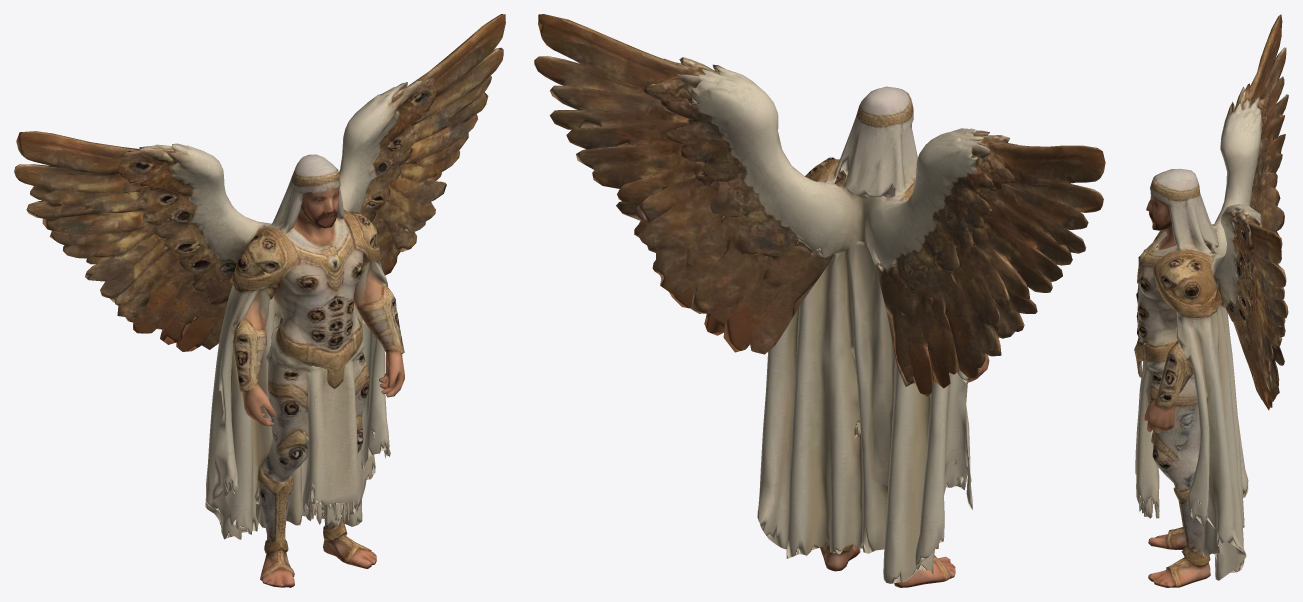
Rendered from beastMan.glb.
3 views of the same model, side by side, from view 1: azimuth 30°, elevation 25°; view 2: azimuth 150°, elevation 25°; view 3: azimuth 270°, elevation 25° (orthographic). The views are drawn at different scales.
Visible parts, largest first — view 1: geometry_0; view 2: geometry_0; view 3: geometry_0.
Boxes of the visible parts, box(x1,y1,x2,y2) form: geometry_0: box(14, 14, 505, 587); geometry_0: box(534, 14, 1105, 587); geometry_0: box(1134, 14, 1288, 587).
Size of the model in its own units: 0.9985 by 0.8891 by 0.2854.
1 material, 1 textured.
